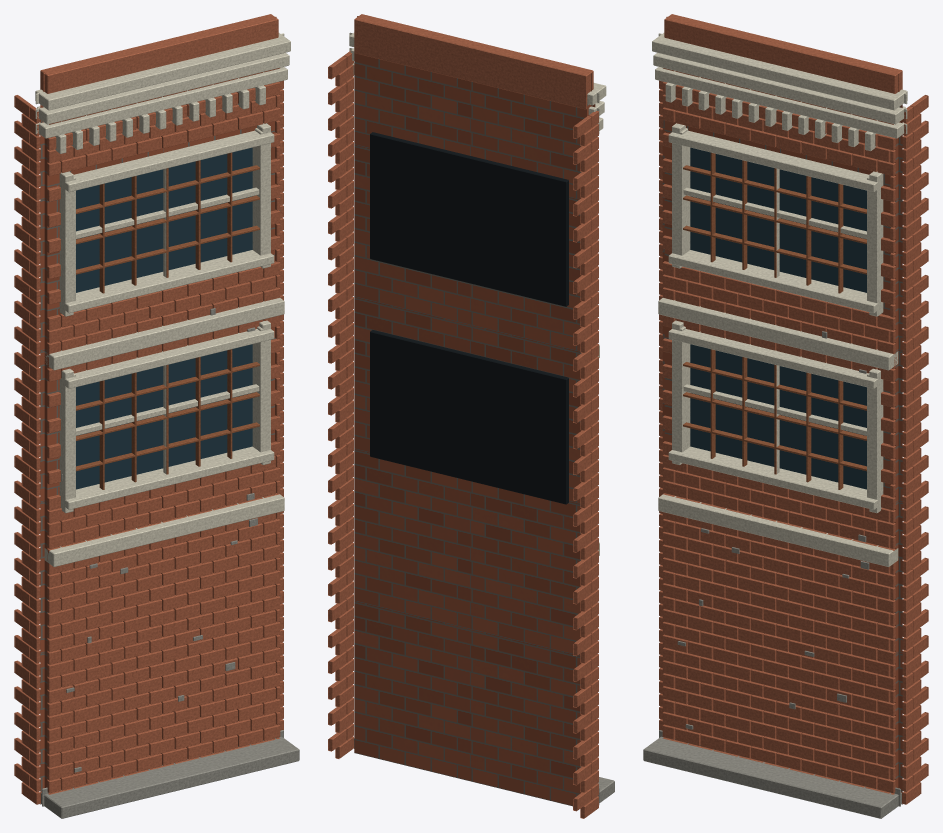
File: WRHS3_lod0.glb
3 views of the same model, side by side, from view 1: azimuth 30°, elevation 25°; view 2: azimuth 150°, elevation 25°; view 3: azimuth 330°, elevation 25° (orthographic).
Visible parts, largest first — view 1: WRHS3_FRONT_LOD0; view 2: WRHS3_FRONT_LOD0; view 3: WRHS3_FRONT_LOD0.
Part boxes in pixels (x1=…): WRHS3_FRONT_LOD0: x1=14, y1=14, x2=299, y2=818; WRHS3_FRONT_LOD0: x1=328, y1=14, x2=614, y2=818; WRHS3_FRONT_LOD0: x1=643, y1=14, x2=928, y2=818.
Size of the model in its own units: 3.44 by 9.66 by 1.02.
Materials: 10 (8 with a texture image).
